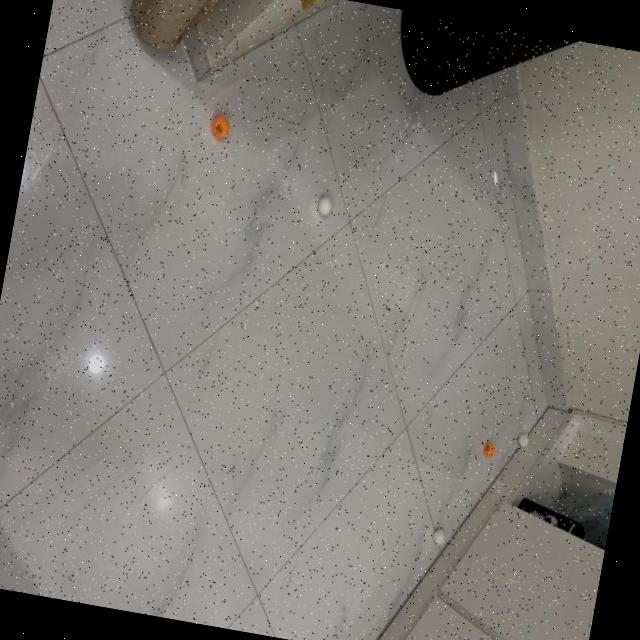ping-pong-ball: (208, 115, 232, 142), (312, 196, 335, 219), (432, 524, 448, 547), (514, 425, 530, 447), (482, 439, 496, 459)
